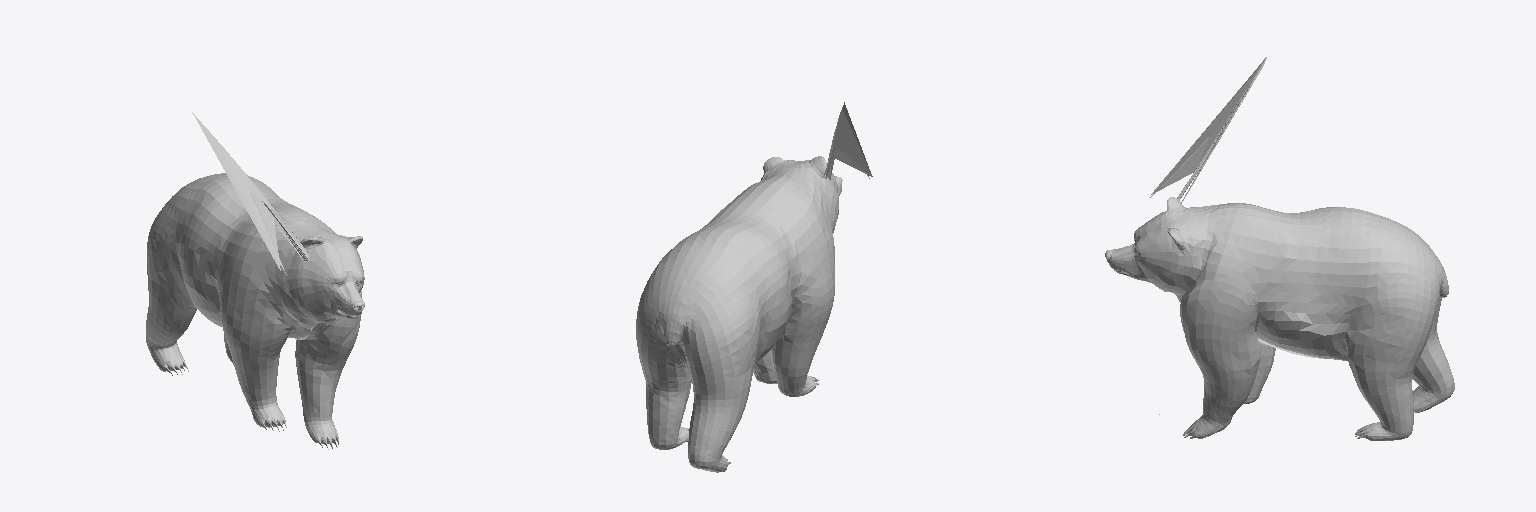
The model's file is Bear0032.obj.
3 views of the same model, side by side, from view 1: azimuth 30°, elevation 25°; view 2: azimuth 150°, elevation 25°; view 3: azimuth 270°, elevation 25° (orthographic).
Visible parts, largest first — view 1: Object_237; view 2: Object_237; view 3: Object_237.
Boxes of the visible parts, x1=… form: Object_237: x1=146, y1=112, x2=364, y2=449; Object_237: x1=636, y1=102, x2=872, y2=472; Object_237: x1=1105, y1=57, x2=1454, y2=440.
Bounding box in the file's own units: 2.29 × 5.18 × 4.93.